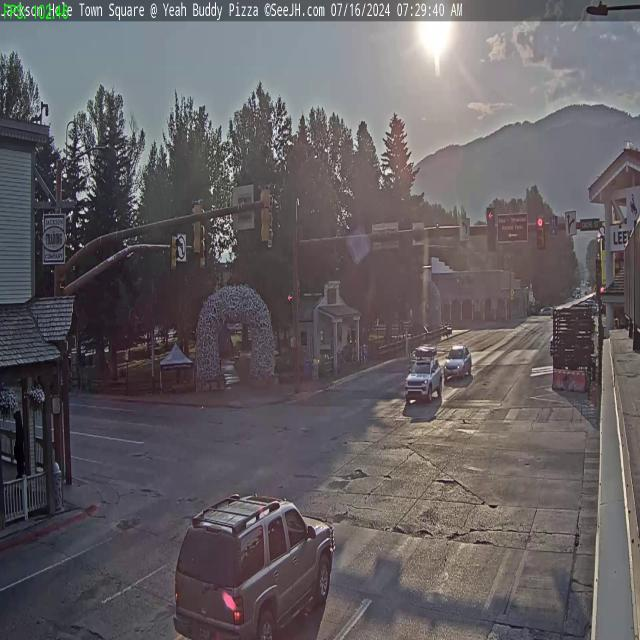sedan: (443, 342, 472, 382)
suv: (168, 487, 336, 640), (406, 354, 442, 404)
traffic light: (259, 184, 272, 247), (191, 200, 202, 252), (485, 207, 497, 252), (170, 235, 178, 272), (536, 217, 544, 250), (200, 238, 208, 269)
